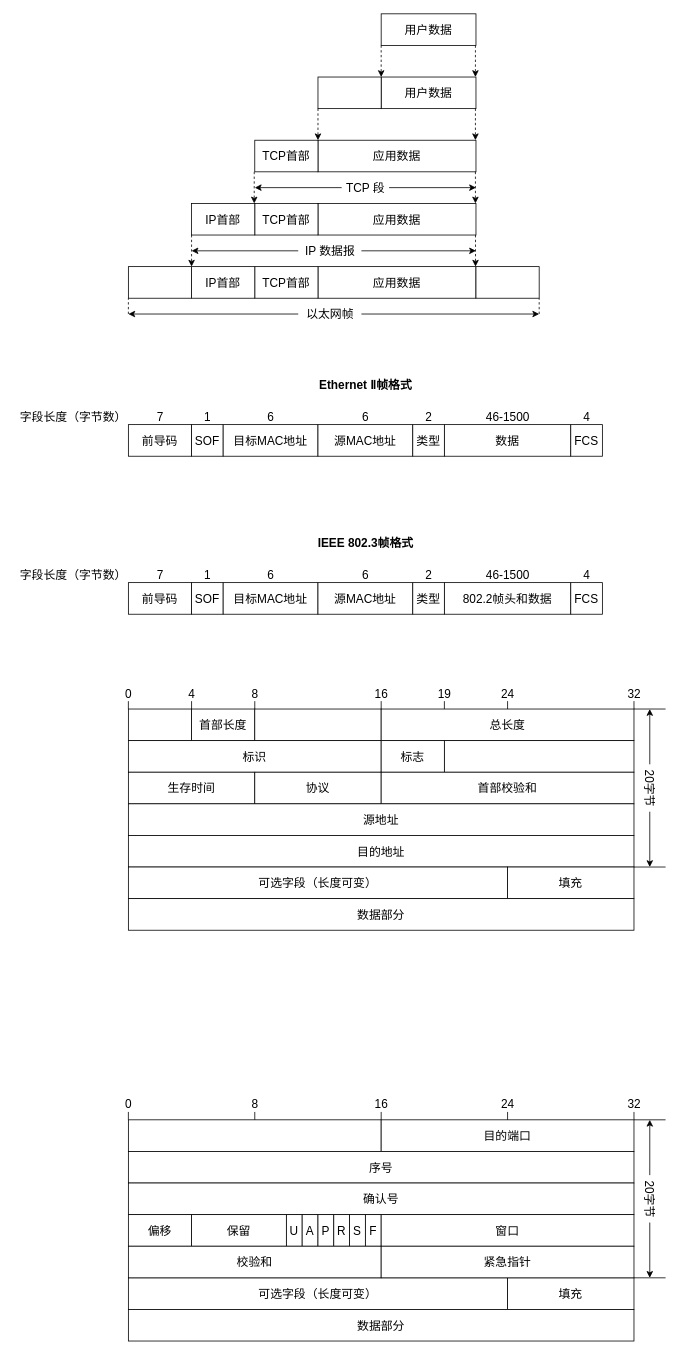
The diagram is 680 pixels wide and 1355 high, and some of its shapes have lost their labels. Here are the shapes that lost their labels. From the top down, the centre of each, then its label:
point (349, 92): APP首部
point (160, 282): 以太网首部
point (507, 282): 以太网尾部
point (160, 724): 版本
point (317, 724): 服务类型
point (539, 756): 片偏移量
point (254, 1135): 源端口
